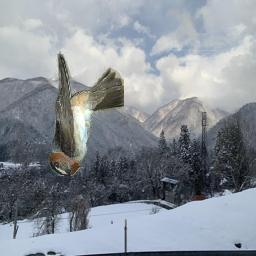Swallow: (48, 52, 124, 177)
